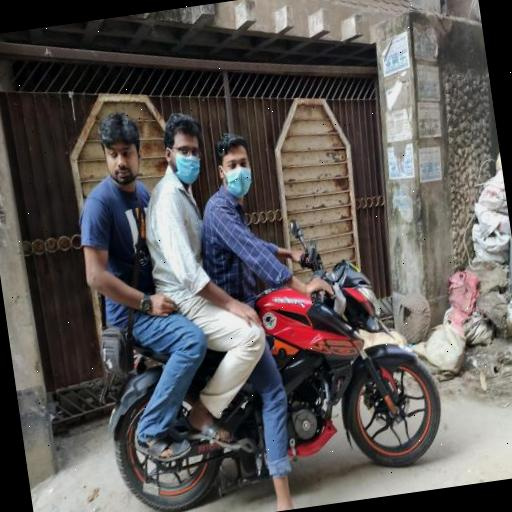no helmet: (202, 120, 258, 224)
triple riding: (55, 51, 498, 512)
